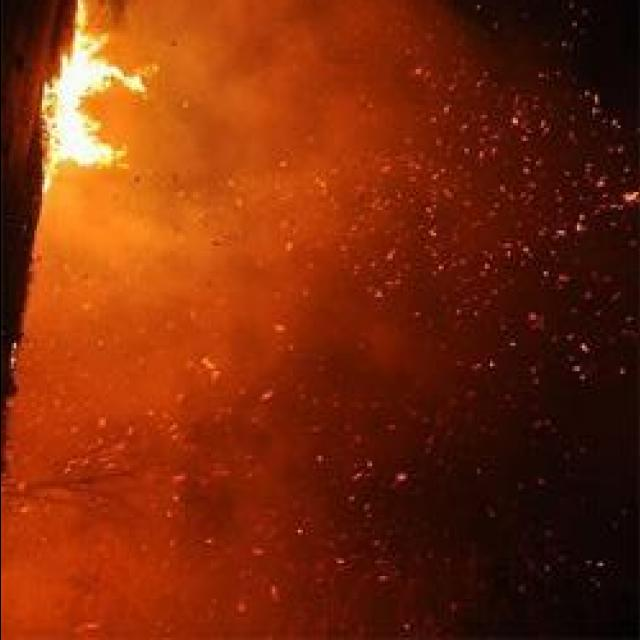fire: (42, 8, 142, 175)
smoke: (175, 41, 319, 167)
